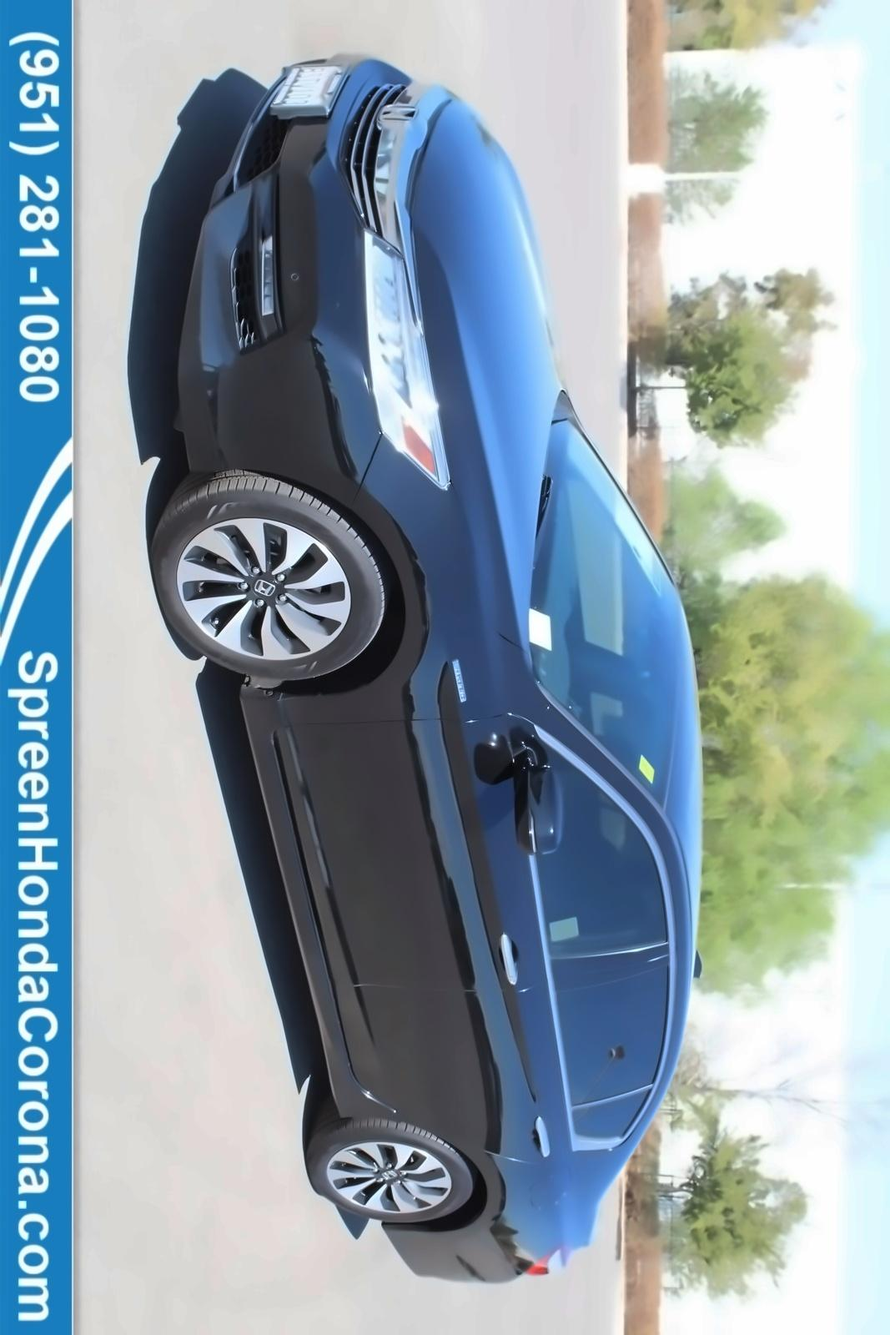Car hood: (407, 79, 566, 684)
Fender - -F-L-: (217, 436, 570, 737)
Fender - -R-L-: (396, 1127, 631, 1281)
Front bumper: (175, 50, 396, 519)
Headlight - -L-: (351, 223, 457, 491)
Passenger-s door - -F-L-: (234, 672, 707, 1023)
Passenger-s door - -R-L-: (282, 928, 707, 1162)
Rear bumper: (371, 1208, 520, 1292)
Side bumper - -L-: (215, 651, 401, 1127)
Side mirror - -L-: (483, 711, 568, 863)
